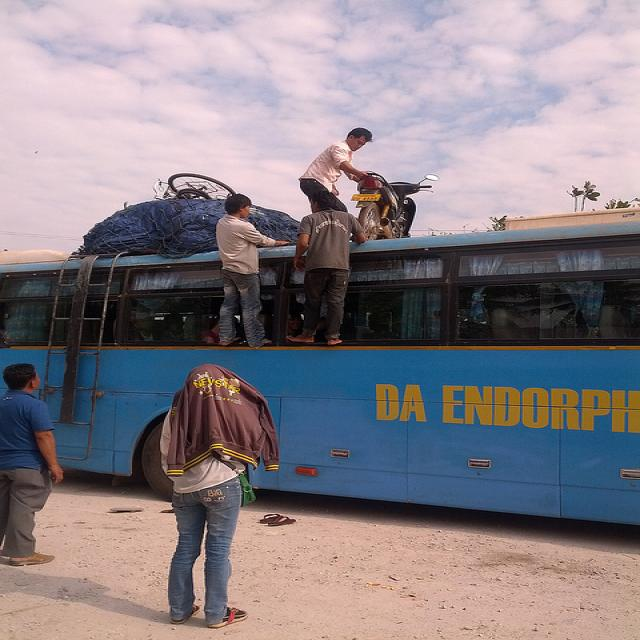motor: (349, 167, 442, 239)
